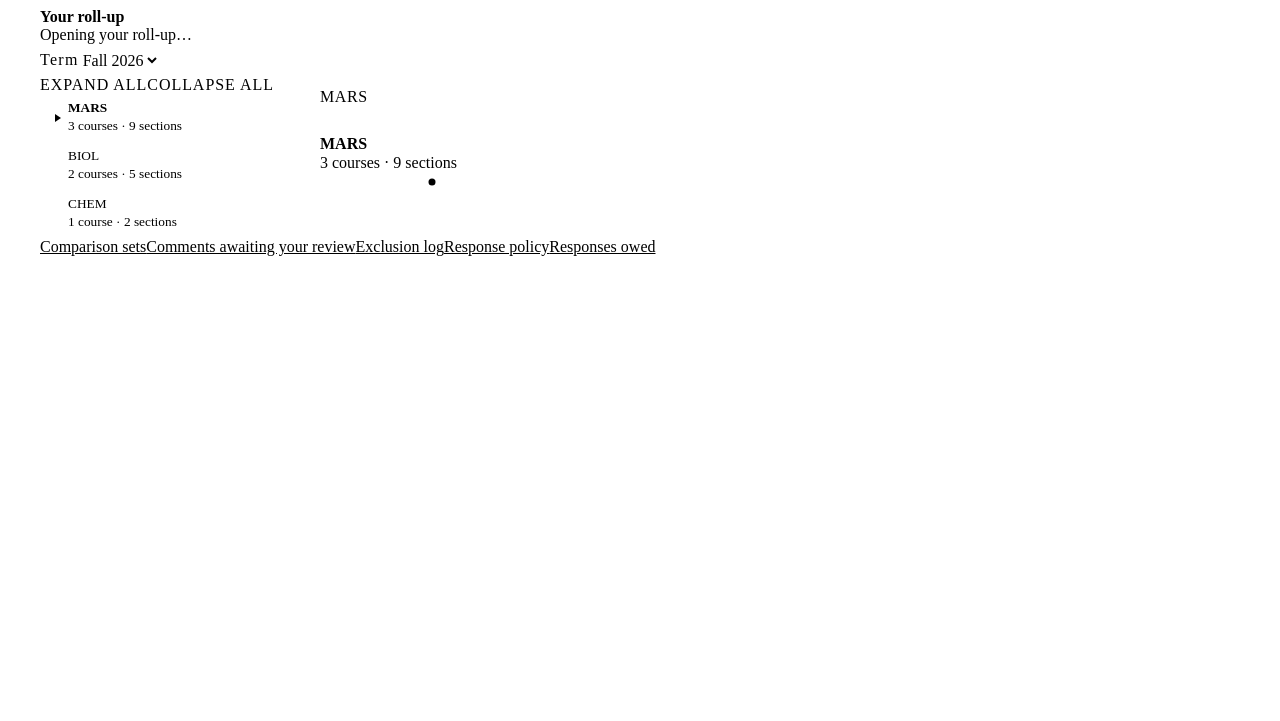
Test: /leadership, the roll-up › keeps focus on a pressed tree row and says what is shown; a breadcrumb moves it to the heading
Expected: the heading "MARS" is shown, [320, 135, 367, 152]
Click the button "Expand all": x=94, y=85 [40, 76, 147, 94]
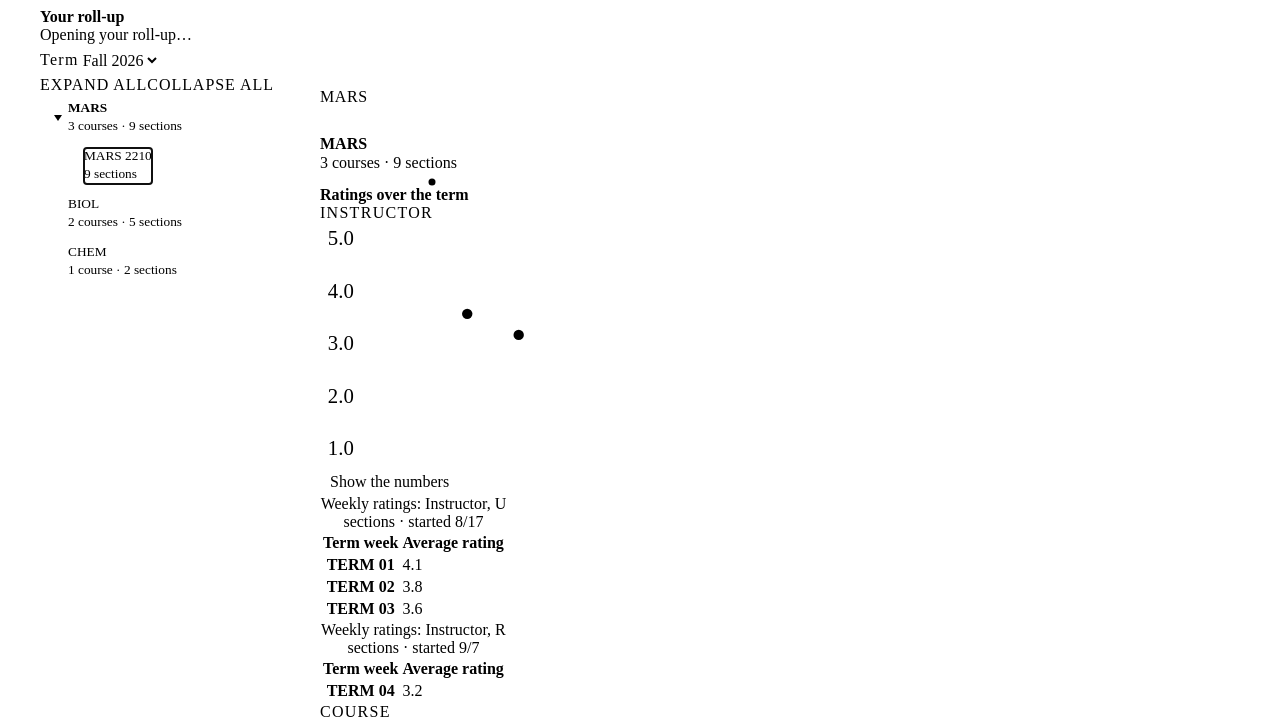
Click the button "MARS 2210 9 sections": x=118, y=166 [84, 148, 152, 184]
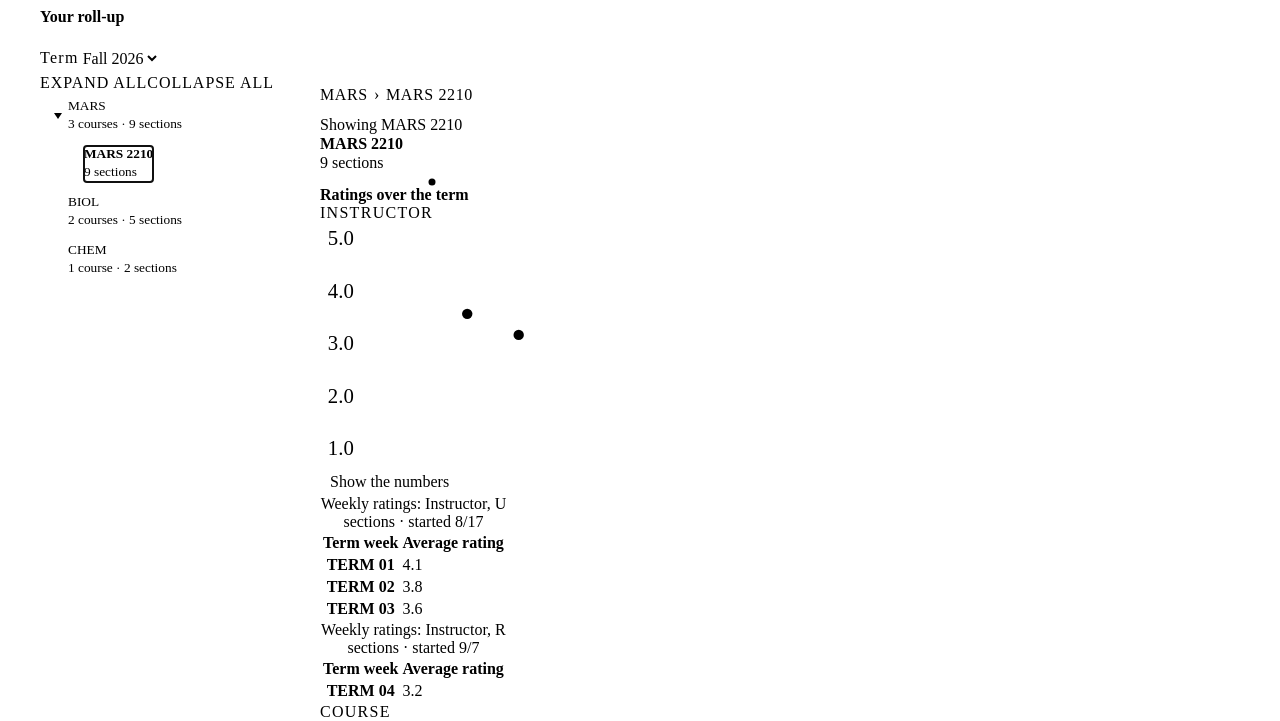
Expected: the heading "MARS 2210" is shown, [320, 135, 403, 152]
Expected: the message "Showing MARS 2210" is shown, [320, 116, 462, 133]
Click the button "MARS": x=344, y=95 [320, 84, 368, 106]
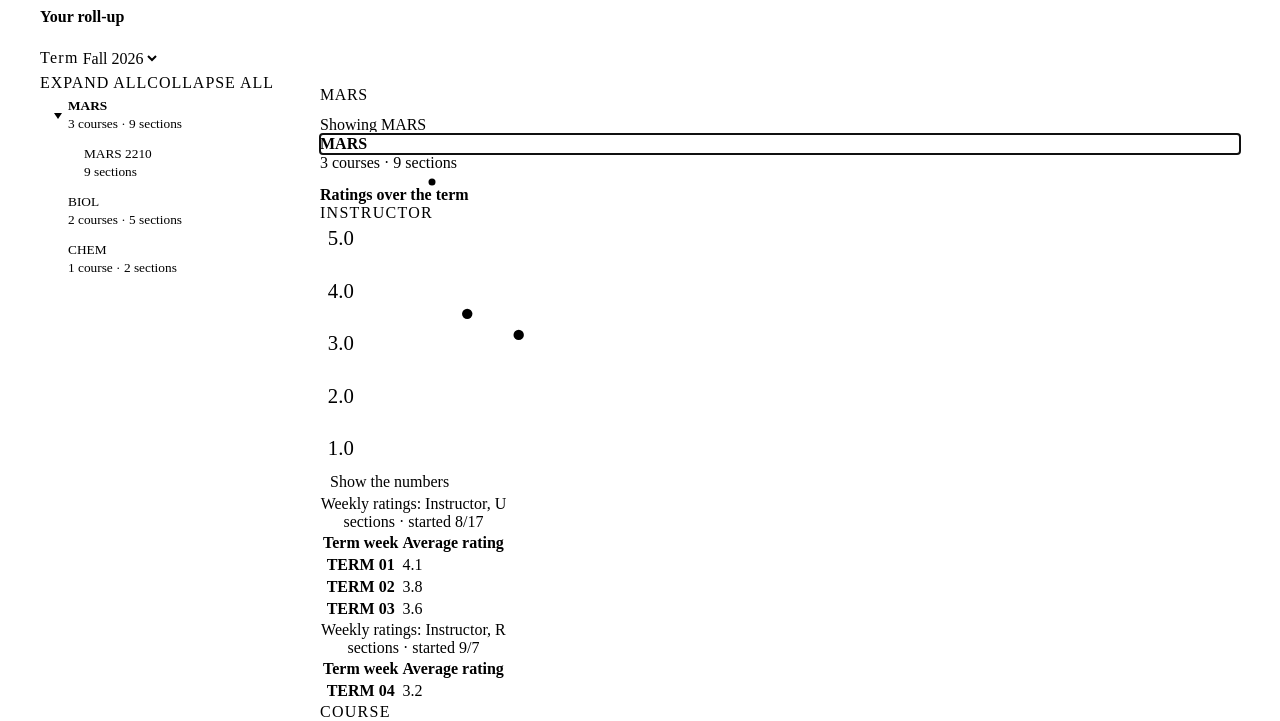
Expected: the heading "MARS" is shown, [320, 135, 367, 152]
